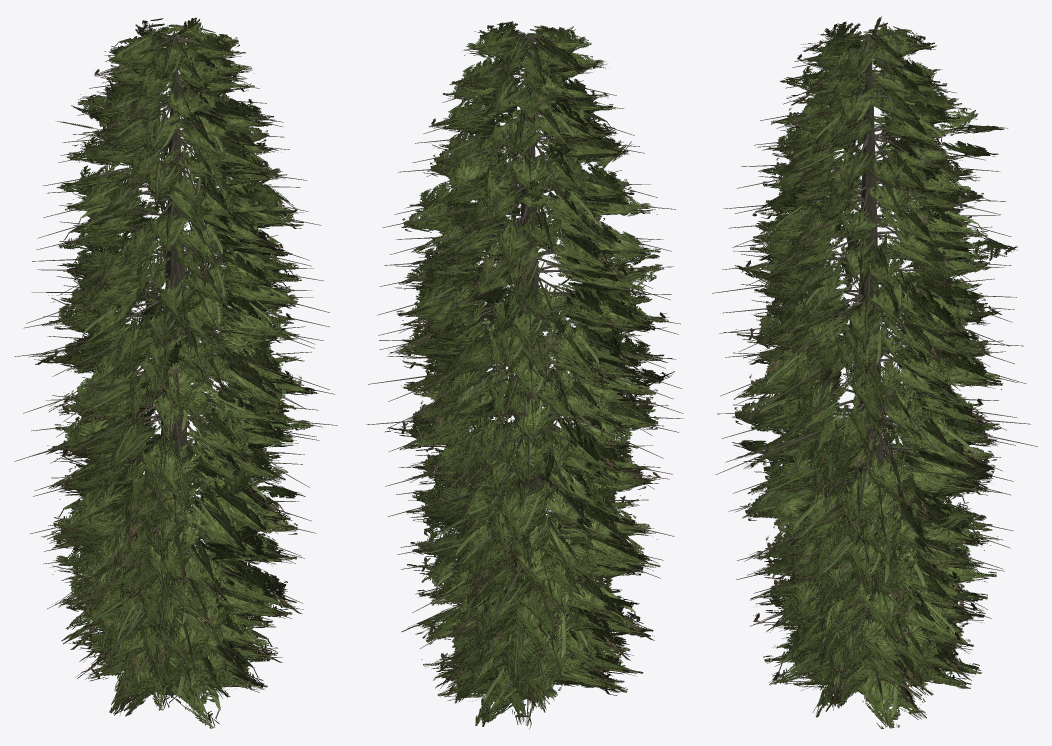
File: conifer_v6_lod0.glb
3 renders of one model, left to right at view 1: azimuth 30°, elevation 25°; view 2: azimuth 150°, elevation 25°; view 3: azimuth 270°, elevation 25°, orthographic.
Visible parts, largest first — view 1: conifer_v6_lod0; view 2: conifer_v6_lod0; view 3: conifer_v6_lod0.
Part boxes in pixels (left/top/right/bottom): conifer_v6_lod0: left=14, top=17, right=337, bottom=728; conifer_v6_lod0: left=366, top=21, right=683, bottom=728; conifer_v6_lod0: left=712, top=16, right=1037, bottom=729.
Size of the model in its own units: 8.25 by 18.9 by 8.19.
Materials: 1 (1 with a texture image).
